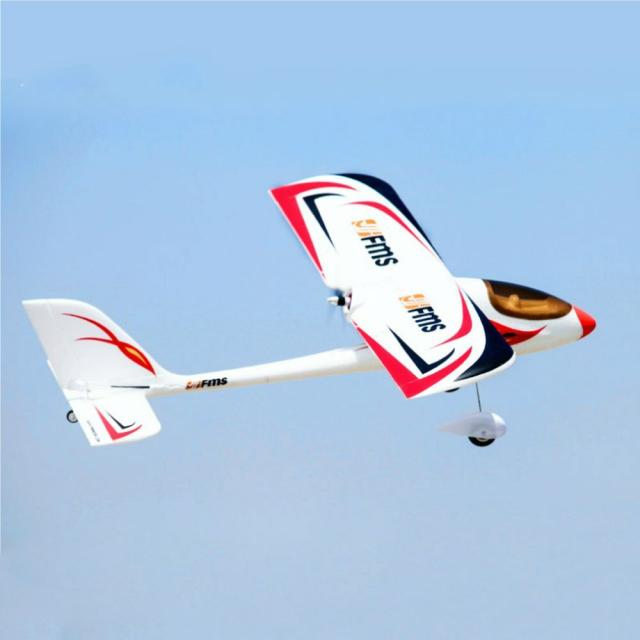iha: (18, 167, 596, 450)
